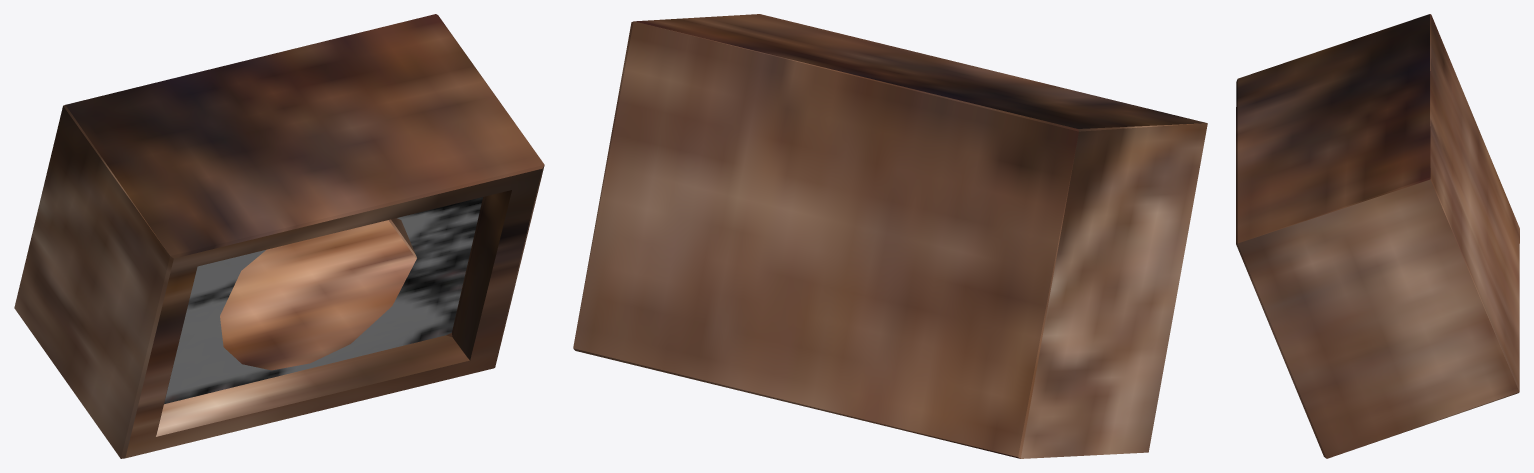
The model's file is Speaker Single 2.fbx.
The picture shows the model from 3 angles, left to right: view 1: azimuth 30°, elevation 25°; view 2: azimuth 150°, elevation 25°; view 3: azimuth 270°, elevation 25°; orthographic projection. The views are drawn at different scales.
Parts seen in each view (by area): view 1: Speaker_Single_2; view 2: Speaker_Single_2; view 3: Speaker_Single_2.
Part boxes in pixels (x1,y1,x2,y2): Speaker_Single_2: (14,14,544,458); Speaker_Single_2: (573,14,1207,458); Speaker_Single_2: (1236,14,1519,458).
Size of the model in its own units: 74.31 by 59.08 by 54.04.
